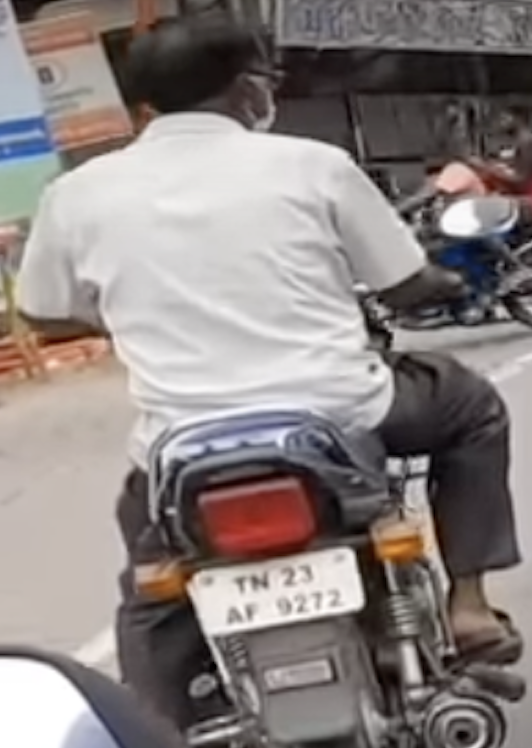motor: (29, 206, 530, 744)
no helmet: (127, 19, 277, 130)
number: (191, 561, 364, 618)
